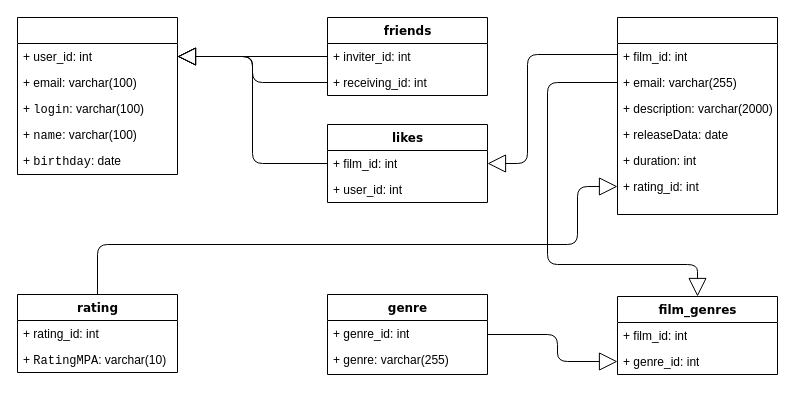
The diagram is 795 pixels wide and 397 high, and some of its shapes have lost their labels. Here are the shapes that lost their labels. From the top down, the box of each, then its label:
(16, 16, 178, 174): users
(616, 16, 778, 214): films
